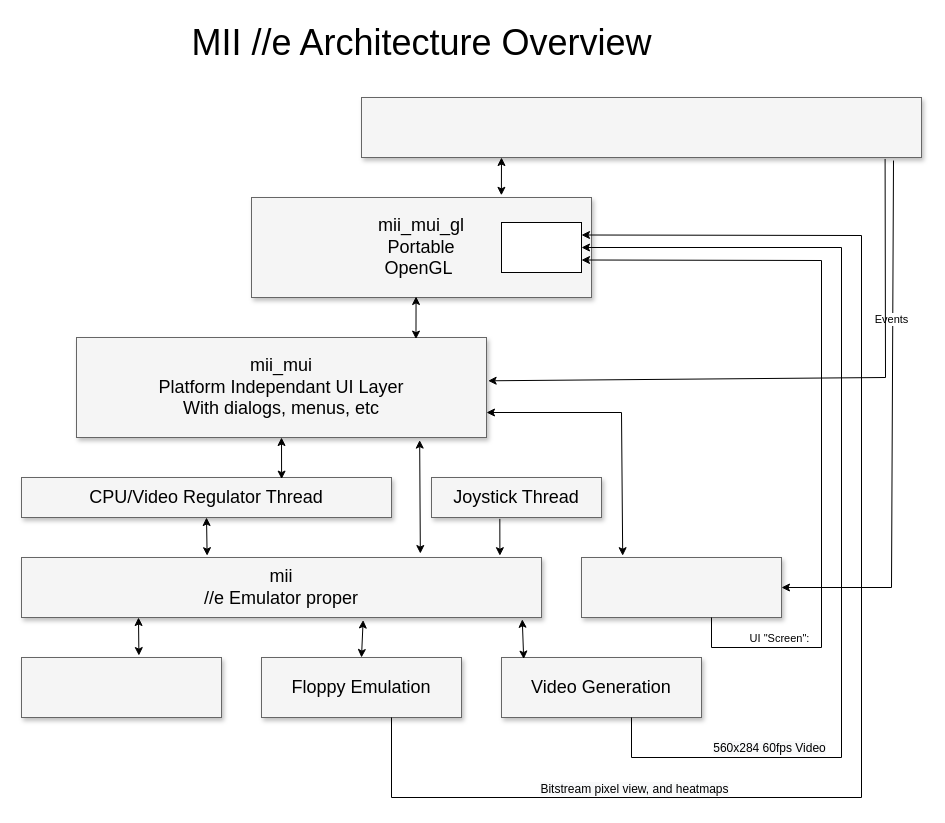
Some shapes in this 945 by 823 pixel diagram are drawn without their labels. Here are the shapes that lost their labels. From the top down, the centre of each, then its label:
At (x=642, y=128): "mii_mui_x11 X11/Xorg GLX Window & Event handling".
At (x=541, y=247): "Textures".
At (x=682, y=588): "libmui".
At (x=122, y=688): "mii_65c02 Core CPU Emulation".
